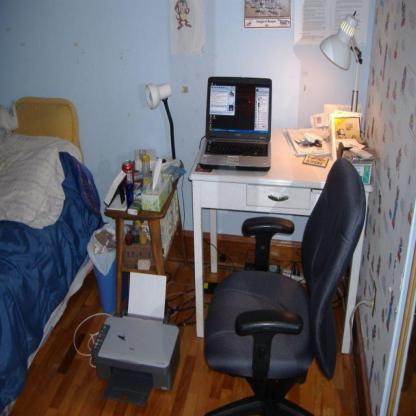board: (198, 76, 274, 172), (122, 160, 135, 192)
